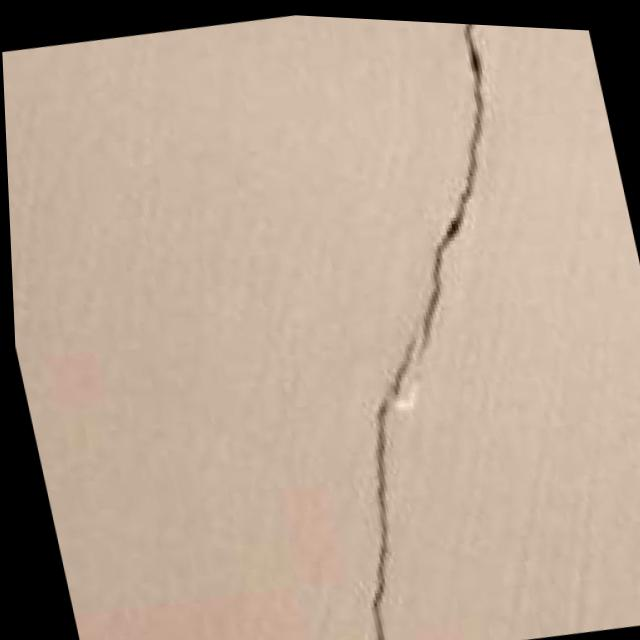Crack: (209, 9, 630, 640)
